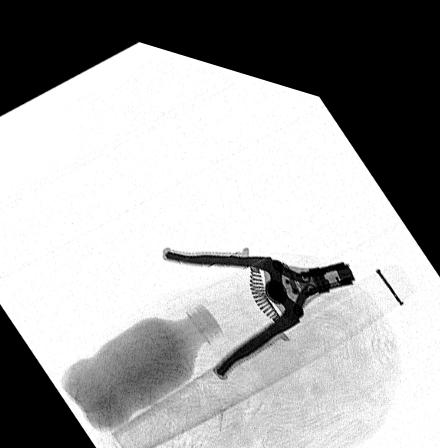Pliers: (162, 238, 358, 366)
